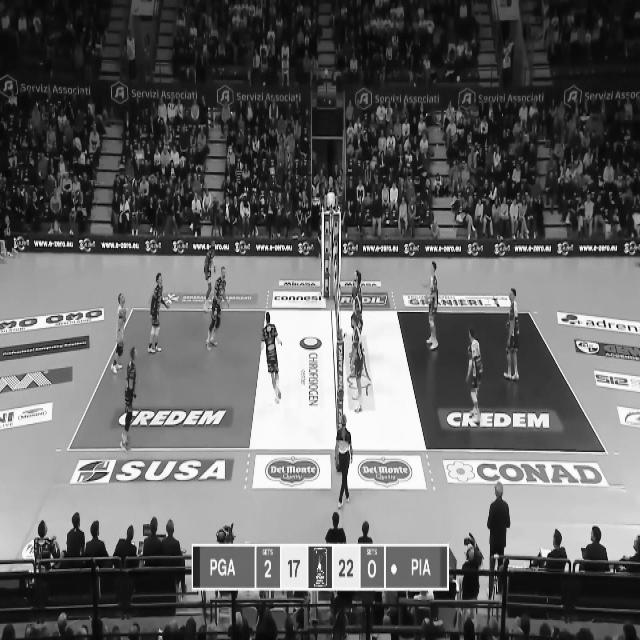volleyball court: (69, 307, 612, 449)
